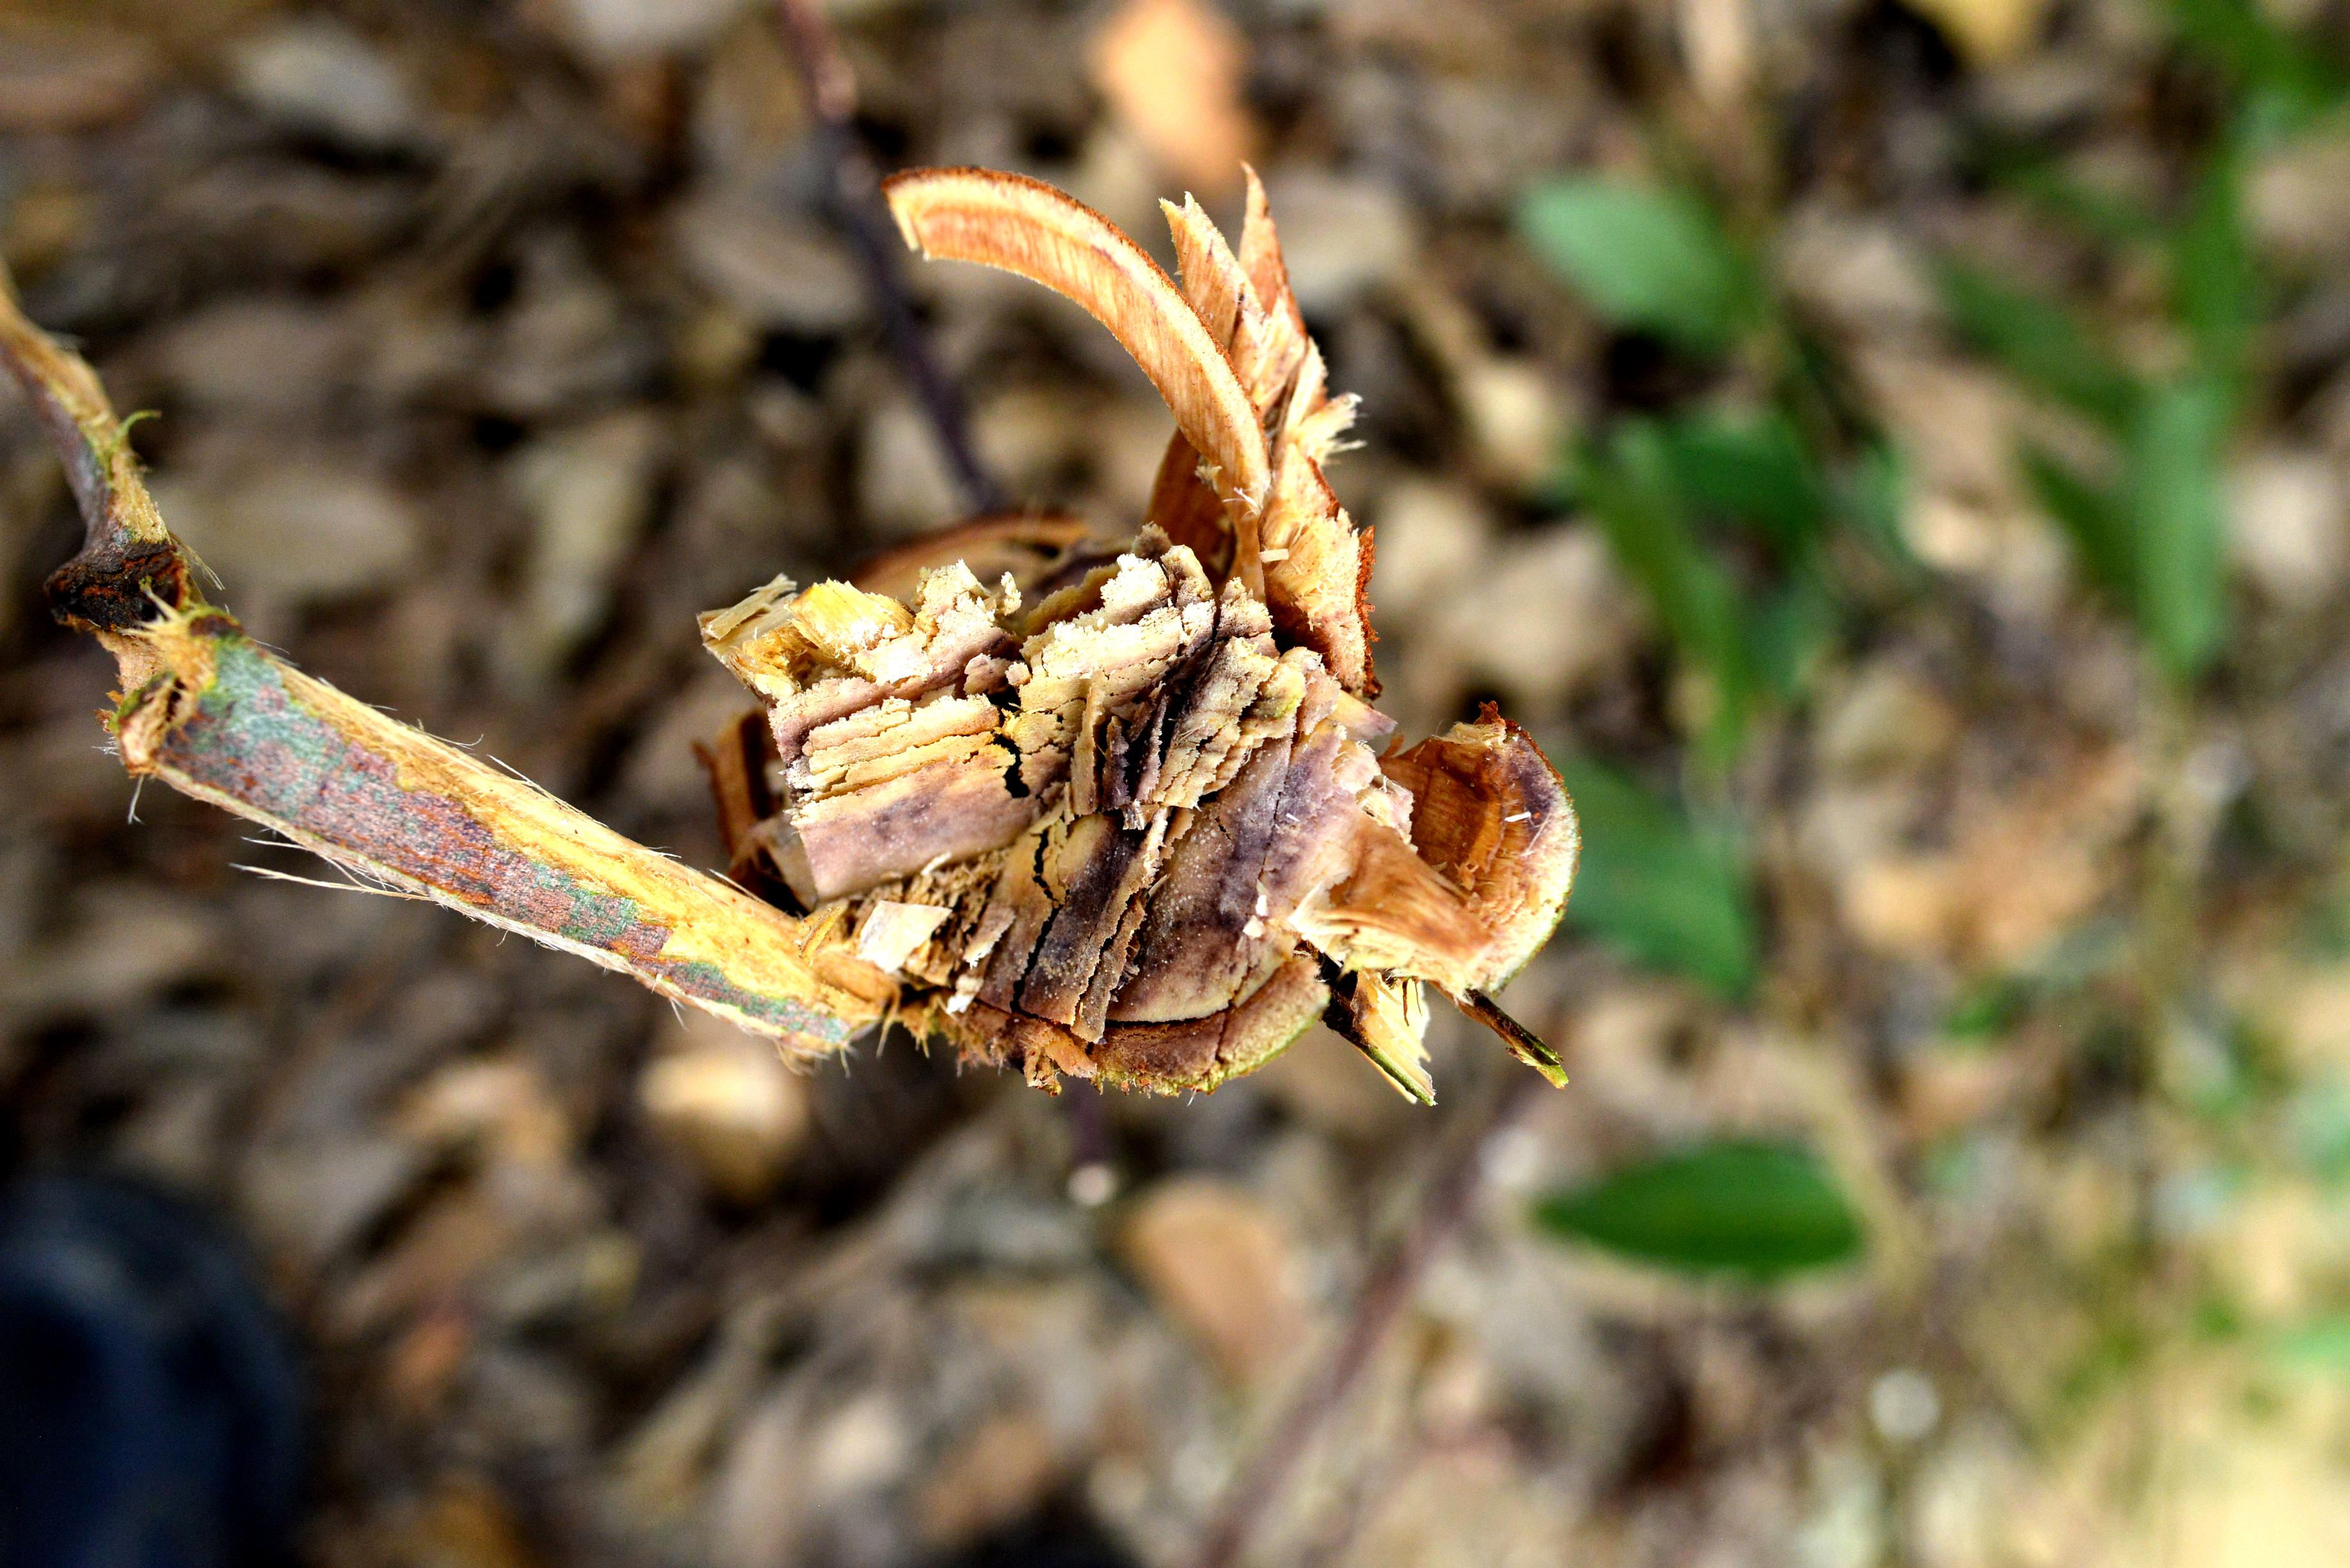Ralstonia: (1039, 800, 1221, 1015), (857, 780, 933, 870)
